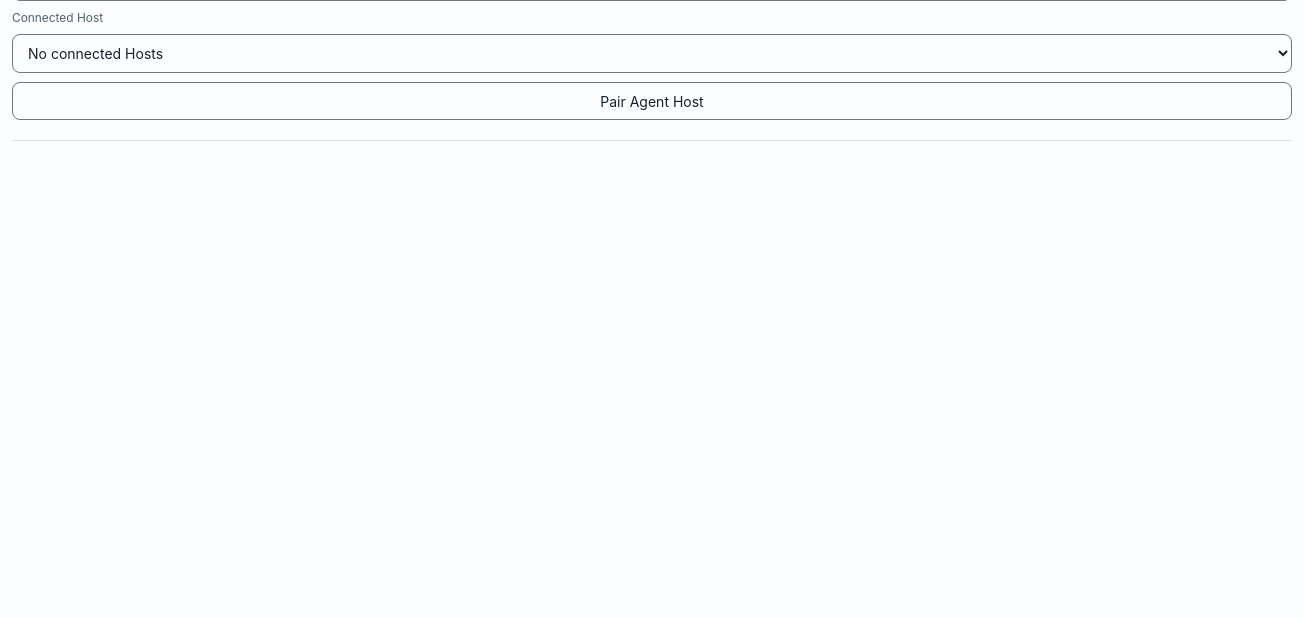
Test case: requires fresh login without replaying deletion or trusting a server redirect
Click the button "Pair Agent Host" at [652, 101], box top-left (12, 82), bottom-right (1292, 120)
(page scrolled)
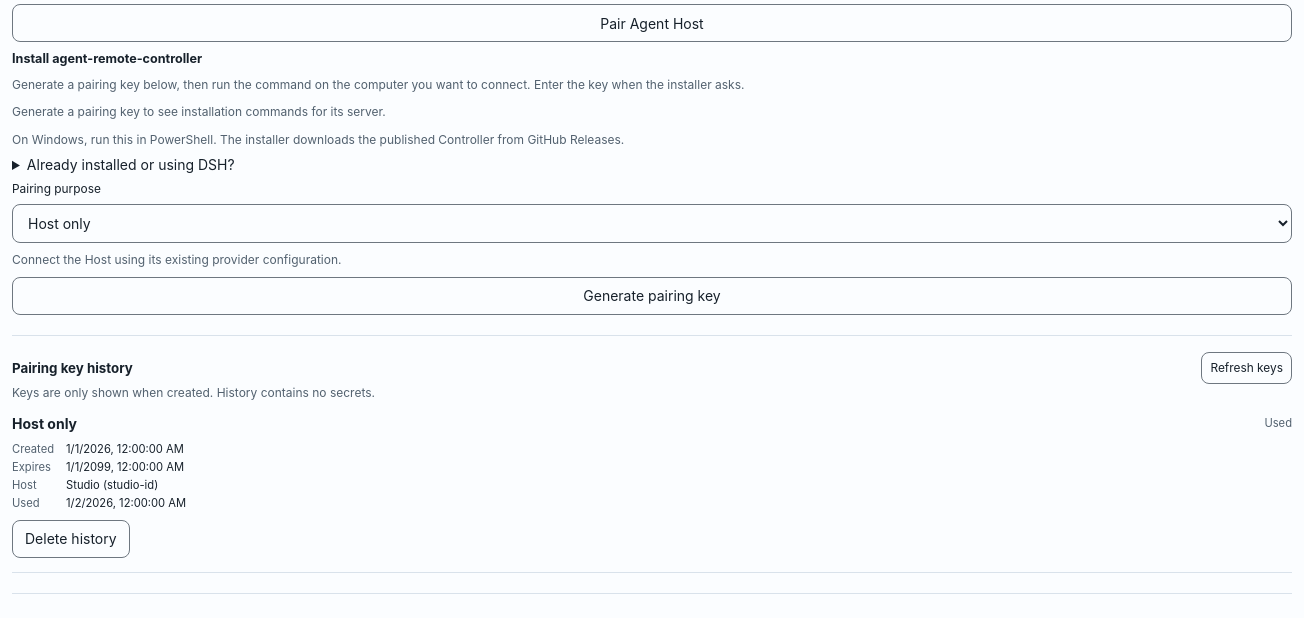
Click the button "Delete history" at [71, 539], box top-left (12, 520), bottom-right (130, 558)
(page scrolled)
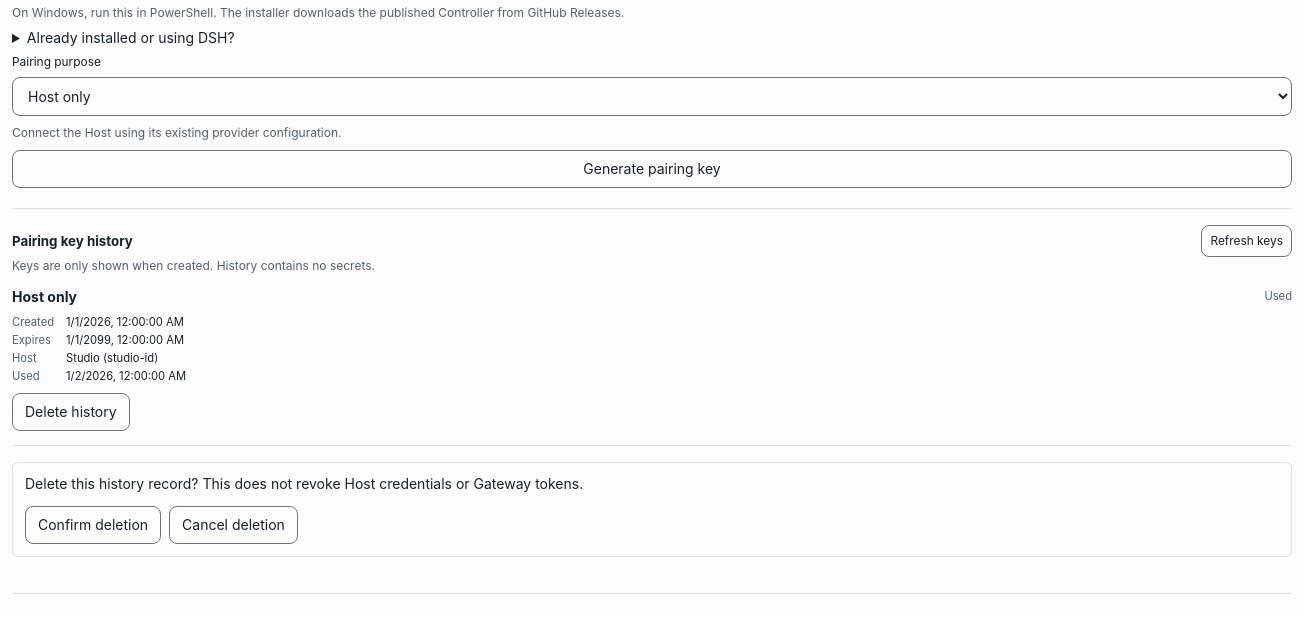
Click the button "Confirm deletion" at [93, 525], box top-left (25, 506), bottom-right (161, 544)
(page scrolled)
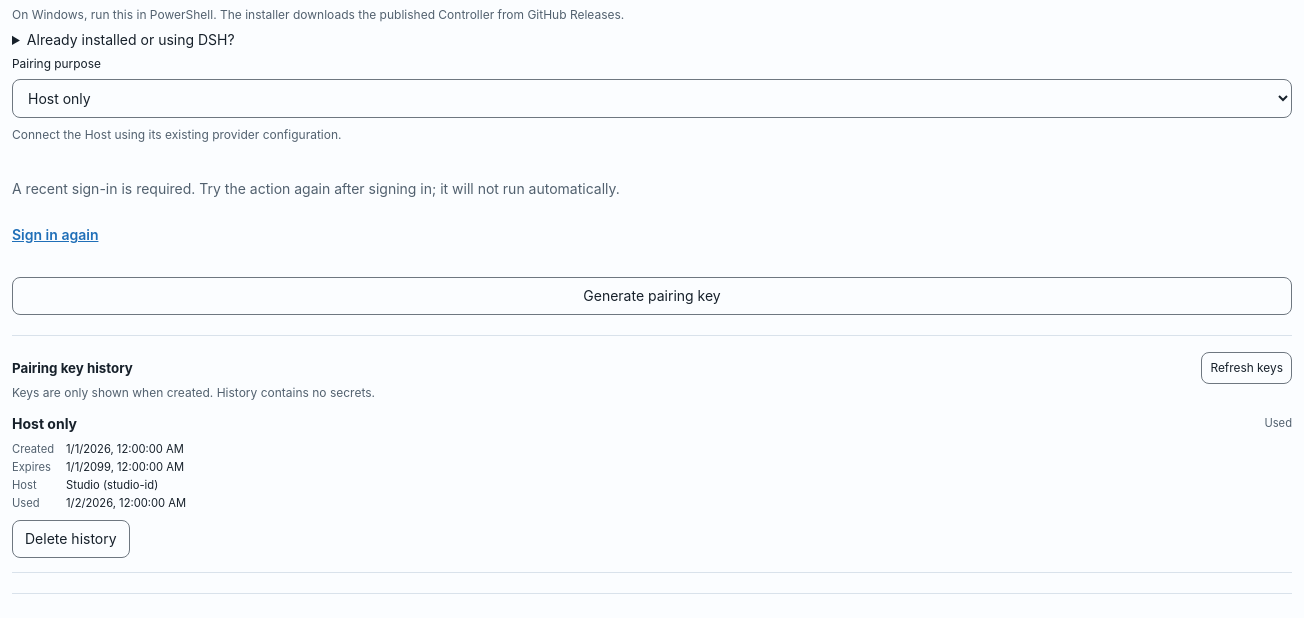
Expected: the text "Try the action again after signing in" is shown, top-left (12, 180), bottom-right (620, 197)
